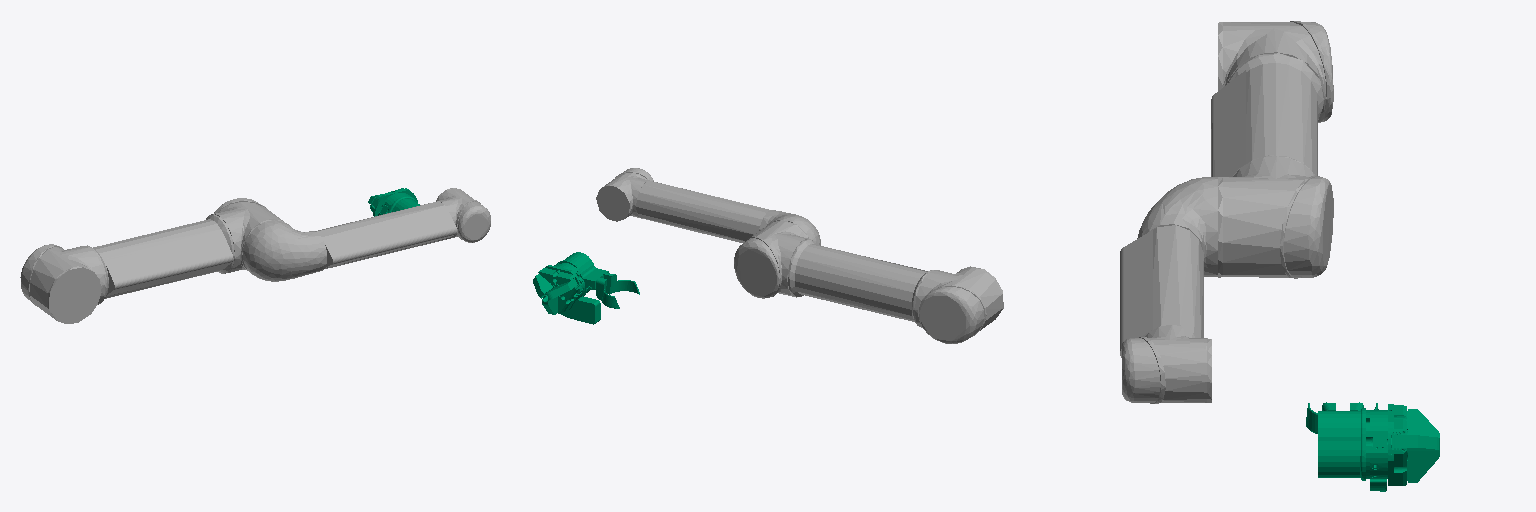
The robot description file, URDF, robot "ur5_with_eof":
<?xml version="1.0" ?>
<!-- =================================================================================== -->
<!-- |    This document was autogenerated by xacro from ur5_with_eof.xacro             | -->
<!-- |    EDITING THIS FILE BY HAND IS NOT RECOMMENDED                                 | -->
<!-- =================================================================================== -->
<robot name="ur5_with_eof">
  <gazebo>
    <plugin filename="libgazebo_ros_control.so" name="ros_control">
      <!--robotNamespace>/</robotNamespace-->
      <!--robotSimType>gazebo_ros_control/DefaultRobotHWSim</robotSimType-->
    </plugin>
    <!--
    <plugin name="gazebo_ros_power_monitor_controller" filename="libgazebo_ros_power_monitor.so">
      <alwaysOn>true</alwaysOn>
      <updateRate>1.0</updateRate>
      <timeout>5</timeout>
      <powerStateTopic>power_state</powerStateTopic>
      <powerStateRate>10.0</powerStateRate>
      <fullChargeCapacity>87.78</fullChargeCapacity>     
      <dischargeRate>-474</dischargeRate>
      <chargeRate>525</chargeRate>
      <dischargeVoltage>15.52</dischargeVoltage>
      <chargeVoltage>16.41</chargeVoltage>
    </plugin>
-->
  </gazebo>
  <!-- measured from model -->
  <!--property name="shoulder_height" value="0.089159" /-->
  <!--property name="shoulder_offset" value="0.13585" /-->
  <!-- shoulder_offset - elbow_offset + wrist_1_length = 0.10915 -->
  <!--property name="upper_arm_length" value="0.42500" /-->
  <!--property name="elbow_offset" value="0.1197" /-->
  <!-- CAD measured -->
  <!--property name="forearm_length" value="0.39225" /-->
  <!--property name="wrist_1_length" value="0.093" /-->
  <!-- CAD measured -->
  <!--property name="wrist_2_length" value="0.09465" /-->
  <!-- In CAD this distance is 0.930, but in the spec it is 0.09465 -->
  <!--property name="wrist_3_length" value="0.0823" /-->
  <!-- manually measured -->
  <link name="base_link">
    <visual>
      <geometry>
        <mesh filename="package://ur_description/meshes/ur5/visual/base.dae"/>
      </geometry>
      <material name="LightGrey">
        <color rgba="0.7 0.7 0.7 1.0"/>
      </material>
    </visual>
    <collision>
      <geometry>
        <mesh filename="package://ur_description/meshes/ur5/collision/base.stl"/>
      </geometry>
    </collision>
    <inertial>
      <mass value="4.0"/>
      <origin rpy="0 0 0" xyz="0.0 0.0 0.0"/>
      <inertia ixx="0.00443333156" ixy="0.0" ixz="0.0" iyy="0.00443333156" iyz="0.0" izz="0.0072"/>
    </inertial>
  </link>
  <joint name="shoulder_pan_joint" type="revolute">
    <parent link="base_link"/>
    <child link="shoulder_link"/>
    <origin rpy="0.0 0.0 0.0" xyz="0.0 0.0 0.089159"/>
    <axis xyz="0 0 1"/>
    <limit effort="150.0" lower="-4.77" upper="2.25" velocity="3.15"/>
    <dynamics damping="0.0" friction="0.0"/>
  </joint>
  <link name="shoulder_link">
    <visual>
      <geometry>
        <mesh filename="package://ur_description/meshes/ur5/visual/shoulder.dae"/>
      </geometry>
      <material name="LightGrey">
        <color rgba="0.7 0.7 0.7 1.0"/>
      </material>
    </visual>
    <collision>
      <geometry>
        <mesh filename="package://ur_description/meshes/ur5/collision/shoulder.stl"/>
      </geometry>
    </collision>
    <inertial>
      <mass value="3.7"/>
      <origin rpy="0 0 0" xyz="0.0 0.0 0.0"/>
      <inertia ixx="0.010267495893" ixy="0.0" ixz="0.0" iyy="0.010267495893" iyz="0.0" izz="0.00666"/>
    </inertial>
  </link>
  <joint name="shoulder_lift_joint" type="revolute">
    <parent link="shoulder_link"/>
    <child link="upper_arm_link"/>
    <origin rpy="0.0 1.5707963267948966 0.0" xyz="0.0 0.13585 0.0"/>
    <axis xyz="0 1 0"/>
    <limit effort="150.0" lower="-2.1" upper="0.0" velocity="3.15"/>
    <dynamics damping="0.0" friction="0.0"/>
  </joint>
  <link name="upper_arm_link">
    <visual>
      <geometry>
        <mesh filename="package://ur_description/meshes/ur5/visual/upperarm.dae"/>
      </geometry>
      <material name="LightGrey">
        <color rgba="0.7 0.7 0.7 1.0"/>
      </material>
    </visual>
    <collision>
      <geometry>
        <mesh filename="package://ur_description/meshes/ur5/collision/upperarm.stl"/>
      </geometry>
    </collision>
    <inertial>
      <mass value="8.393"/>
      <origin rpy="0 0 0" xyz="0.0 0.0 0.28"/>
      <inertia ixx="0.22689067591036005" ixy="0.0" ixz="0.0" iyy="0.22689067591036005" iyz="0.0" izz="0.0151074"/>
    </inertial>
  </link>
  <joint name="elbow_joint" type="revolute">
    <parent link="upper_arm_link"/>
    <child link="forearm_link"/>
    <origin rpy="0.0 0.0 0.0" xyz="0.0 -0.1197 0.425"/>
    <axis xyz="0 1 0"/>
    <limit effort="150.0" lower="-0.3" upper="2.84" velocity="3.15"/>
    <dynamics damping="0.0" friction="0.0"/>
  </joint>
  <link name="forearm_link">
    <visual>
      <geometry>
        <mesh filename="package://ur_description/meshes/ur5/visual/forearm.dae"/>
      </geometry>
      <material name="LightGrey">
        <color rgba="0.7 0.7 0.7 1.0"/>
      </material>
    </visual>
    <collision>
      <geometry>
        <mesh filename="package://ur_description/meshes/ur5/collision/forearm.stl"/>
      </geometry>
    </collision>
    <inertial>
      <mass value="2.275"/>
      <origin rpy="0 0 0" xyz="0.0 0.0 0.196125"/>
      <inertia ixx="0.03121679102890359" ixy="0.0" ixz="0.0" iyy="0.03121679102890359" iyz="0.0" izz="0.004095"/>
    </inertial>
  </link>
  <joint name="wrist_1_joint" type="revolute">
    <parent link="forearm_link"/>
    <child link="wrist_1_link"/>
    <origin rpy="0.0 1.5707963267948966 0.0" xyz="0.0 0.0 0.39225"/>
    <axis xyz="0 1 0"/>
    <limit effort="28.0" lower="-3.141592653589793" upper="1.5707963267948966" velocity="3.2"/>
    <dynamics damping="0.0" friction="0.0"/>
  </joint>
  <link name="wrist_1_link">
    <visual>
      <geometry>
        <mesh filename="package://ur_description/meshes/ur5/visual/wrist1.dae"/>
      </geometry>
      <material name="LightGrey">
        <color rgba="0.7 0.7 0.7 1.0"/>
      </material>
    </visual>
    <collision>
      <geometry>
        <mesh filename="package://ur_description/meshes/ur5/collision/wrist1.stl"/>
      </geometry>
    </collision>
    <inertial>
      <mass value="1.219"/>
      <origin rpy="0 0 0" xyz="0.0 0.093 0.0"/>
      <inertia ixx="0.0025598989760400002" ixy="0.0" ixz="0.0" iyy="0.0025598989760400002" iyz="0.0" izz="0.0021942"/>
    </inertial>
  </link>
  <joint name="wrist_2_joint" type="revolute">
    <parent link="wrist_1_link"/>
    <child link="wrist_2_link"/>
    <origin rpy="0.0 0.0 0.0" xyz="0.0 0.093 0.0"/>
    <axis xyz="0 0 1"/>
    <limit effort="28.0" lower="-1.6" upper="4.74" velocity="3.2"/>
    <dynamics damping="0.0" friction="0.0"/>
  </joint>
  <link name="wrist_2_link">
    <visual>
      <geometry>
        <mesh filename="package://ur_description/meshes/ur5/visual/wrist2.dae"/>
      </geometry>
      <material name="LightGrey">
        <color rgba="0.7 0.7 0.7 1.0"/>
      </material>
    </visual>
    <collision>
      <geometry>
        <mesh filename="package://ur_description/meshes/ur5/collision/wrist2.stl"/>
      </geometry>
    </collision>
    <inertial>
      <mass value="1.219"/>
      <origin rpy="0 0 0" xyz="0.0 0.0 0.09465"/>
      <inertia ixx="0.0025598989760400002" ixy="0.0" ixz="0.0" iyy="0.0025598989760400002" iyz="0.0" izz="0.0021942"/>
    </inertial>
  </link>
  <joint name="wrist_3_joint" type="revolute">
    <parent link="wrist_2_link"/>
    <child link="wrist_3_link"/>
    <origin rpy="0.0 0.0 0.0" xyz="0.0 0.0 0.09465"/>
    <axis xyz="0 1 0"/>
    <limit effort="28.0" lower="0" upper="6.283185307179586" velocity="3.2"/>
    <dynamics damping="0.0" friction="0.0"/>
  </joint>
  <link name="wrist_3_link">
    <visual>
      <geometry>
        <mesh filename="package://ur_description/meshes/ur5/visual/wrist3.dae"/>
      </geometry>
      <material name="LightGrey">
        <color rgba="0.7 0.7 0.7 1.0"/>
      </material>
    </visual>
    <collision>
      <geometry>
        <mesh filename="package://ur_description/meshes/ur5/collision/wrist3.stl"/>
      </geometry>
    </collision>
    <inertial>
      <mass value="0.1879"/>
      <origin rpy="1.5707963267948966 0 0" xyz="0.0 0.06505 0.0"/>
      <inertia ixx="8.469589112163e-05" ixy="0.0" ixz="0.0" iyy="8.469589112163e-05" iyz="0.0" izz="0.0001321171875"/>
    </inertial>
  </link>
  <joint name="ee_fixed_joint" type="fixed">
    <parent link="wrist_3_link"/>
    <child link="ee_link"/>
    <origin rpy="0.0 0.0 1.5707963267948966" xyz="0.0 0.0823 0.0"/>
  </joint>
  <link name="ee_link">
    <collision>
      <geometry>
        <box size="0.01 0.01 0.01"/>
      </geometry>
      <origin rpy="0 0 0" xyz="-0.01 0 0"/>
    </collision>
  </link>
  <transmission name="shoulder_pan_trans">
    <type>transmission_interface/SimpleTransmission</type>
    <joint name="shoulder_pan_joint">
      <hardwareInterface>hardware_interface/PositionJointInterface</hardwareInterface>
    </joint>
    <actuator name="shoulder_pan_motor">
      <mechanicalReduction>1</mechanicalReduction>
    </actuator>
  </transmission>
  <transmission name="shoulder_lift_trans">
    <type>transmission_interface/SimpleTransmission</type>
    <joint name="shoulder_lift_joint">
      <hardwareInterface>hardware_interface/PositionJointInterface</hardwareInterface>
    </joint>
    <actuator name="shoulder_lift_motor">
      <mechanicalReduction>1</mechanicalReduction>
    </actuator>
  </transmission>
  <transmission name="elbow_trans">
    <type>transmission_interface/SimpleTransmission</type>
    <joint name="elbow_joint">
      <hardwareInterface>hardware_interface/PositionJointInterface</hardwareInterface>
    </joint>
    <actuator name="elbow_motor">
      <mechanicalReduction>1</mechanicalReduction>
    </actuator>
  </transmission>
  <transmission name="wrist_1_trans">
    <type>transmission_interface/SimpleTransmission</type>
    <joint name="wrist_1_joint">
      <hardwareInterface>hardware_interface/PositionJointInterface</hardwareInterface>
    </joint>
    <actuator name="wrist_1_motor">
      <mechanicalReduction>1</mechanicalReduction>
    </actuator>
  </transmission>
  <transmission name="wrist_2_trans">
    <type>transmission_interface/SimpleTransmission</type>
    <joint name="wrist_2_joint">
      <hardwareInterface>hardware_interface/PositionJointInterface</hardwareInterface>
    </joint>
    <actuator name="wrist_2_motor">
      <mechanicalReduction>1</mechanicalReduction>
    </actuator>
  </transmission>
  <transmission name="wrist_3_trans">
    <type>transmission_interface/SimpleTransmission</type>
    <joint name="wrist_3_joint">
      <hardwareInterface>hardware_interface/PositionJointInterface</hardwareInterface>
    </joint>
    <actuator name="wrist_3_motor">
      <mechanicalReduction>1</mechanicalReduction>
    </actuator>
  </transmission>
  <gazebo reference="shoulder_link">
    <selfCollide>true</selfCollide>
  </gazebo>
  <gazebo reference="upper_arm_link">
    <selfCollide>true</selfCollide>
  </gazebo>
  <gazebo reference="forearm_link">
    <selfCollide>true</selfCollide>
  </gazebo>
  <gazebo reference="wrist_1_link">
    <selfCollide>true</selfCollide>
  </gazebo>
  <gazebo reference="wrist_3_link">
    <selfCollide>true</selfCollide>
  </gazebo>
  <gazebo reference="wrist_2_link">
    <selfCollide>true</selfCollide>
  </gazebo>
  <gazebo reference="ee_link">
    <selfCollide>true</selfCollide>
  </gazebo>
  <!-- ROS base_link to UR 'Base' Coordinates transform -->
  <link name="base"/>
  <joint name="base_link-base_fixed_joint" type="fixed">
    <!-- NOTE: this rotation is only needed as long as base_link itself is
                 not corrected wrt the real robot (ie: rotated over 180
                 degrees)
      -->
    <origin rpy="0 0 0" xyz="0 0 0"/>
    <parent link="base_link"/>
    <child link="base"/>
  </joint>
  <!-- Frame coincident with all-zeros TCP on UR controller -->
  <link name="tool0"/>
  <joint name="wrist_3_link-tool0_fixed_joint" type="fixed">
    <origin rpy="-1.5707963267948966 0 0" xyz="0 0.0823 0"/>
    <parent link="wrist_3_link"/>
    <child link="tool0"/>
  </joint>
  <!-- Create a fixed joint with a parameterized name. -->
  <joint name="eof_joint" type="fixed">
    <!-- The parent link must be read from the robot model it is attached to. -->
    <parent link="tool0"/>
    <child link="eof"/>
    <!-- The tool is directly attached to the flange. -->
    <origin rpy="0 0 -1.57" xyz="0 0 0.05"/>
  </joint>
  <link name="eof">
    <visual>
      <geometry>
        <!-- The path to the visual meshes in the package. -->
        <mesh filename="package://ur_description/meshes/eof/eof.stl"/>
      </geometry>
    </visual>
    <collision>
      <geometry>
        <!-- The path to the collision meshes in the package. -->
        <mesh filename="package://ur_description/meshes/eof/eof.stl"/>
      </geometry>
    </collision>
  </link>
  <!-- TCP frame -->
  <joint name="tcp_joint" type="fixed">
    <origin rpy="0 0 0" xyz="0 0 0.116"/>
    <parent link="eof"/>
    <child link="tcp"/>
  </joint>
  <link name="tcp"/>
  <!-- define the ur5's position and orientation in the world coordinate system -->
  <link name="world"/>
  <joint name="world_joint" type="fixed">
    <parent link="world"/>
    <child link="base_link"/>
    <!-- TODO: check base_link name of robot -->
    <origin rpy="0.0 0.0 0.0" xyz="0.0 0.0 0.0"/>
  </joint>
</robot>

--- What the picture shows (computed from the rendered views, not written in the file) ---
The picture shows the robot from 3 angles, left to right: view 1: azimuth 30°, elevation 25°; view 2: azimuth 150°, elevation 25°; view 3: azimuth 270°, elevation 25°; orthographic projection.
Robot: ur5_with_eof — 13 links, 12 joints (6 revolute, 6 fixed); root link world; default pose: every joint at zero.
Links seen in each view (by area): view 1: upper_arm_link, forearm_link, eof; view 2: upper_arm_link, forearm_link, eof; view 3: upper_arm_link, forearm_link, eof.
Boxes of the visible links, <box> form: upper_arm_link: <box>20,198,284,323</box>; forearm_link: <box>243,188,490,281</box>; eof: <box>368,188,419,216</box>; upper_arm_link: <box>734,220,1003,343</box>; forearm_link: <box>596,168,820,245</box>; eof: <box>533,252,639,324</box>; upper_arm_link: <box>1211,21,1333,278</box>; forearm_link: <box>1120,177,1217,403</box>; eof: <box>1306,402,1439,491</box>.
Bounding box of the posed robot: 0.9251 × 0.3705 × 0.2185 m (x, y, z).
Meshes: 8 distinct files referenced, 3 mesh visuals loaded (1 binary STL, 2 Collada DAE); not drawn: 5 (reference not matched to a file when rendering).